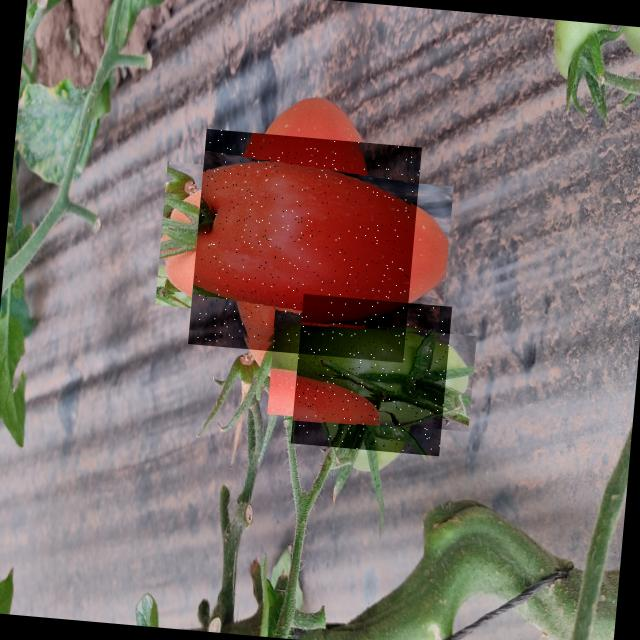Ripe Tomato: (188, 128, 422, 362)
Unripe Tomato: (290, 294, 452, 456)
